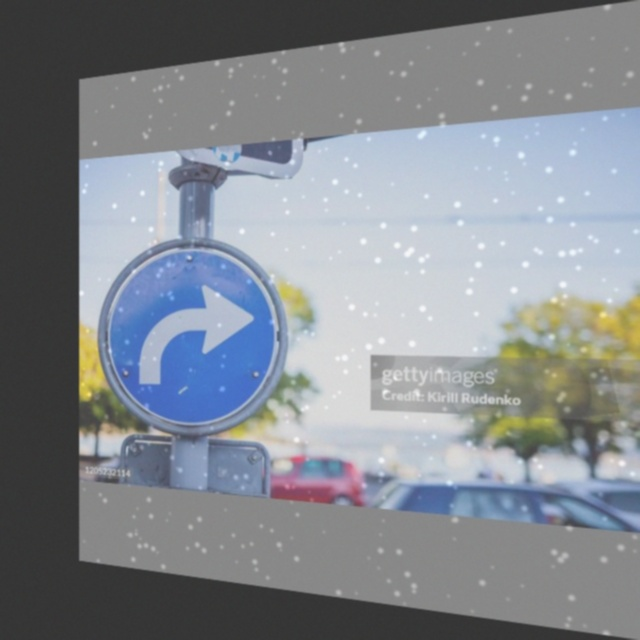Compulsory_Turn_Right_Ahead: (104, 236, 281, 436)
